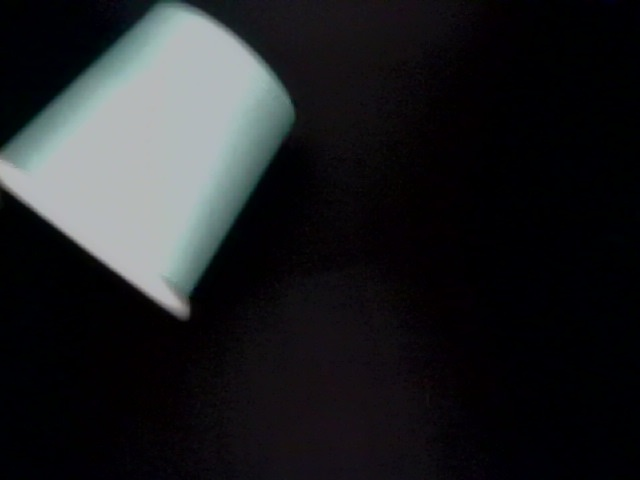KHSLJ: (205, 314, 613, 480)
